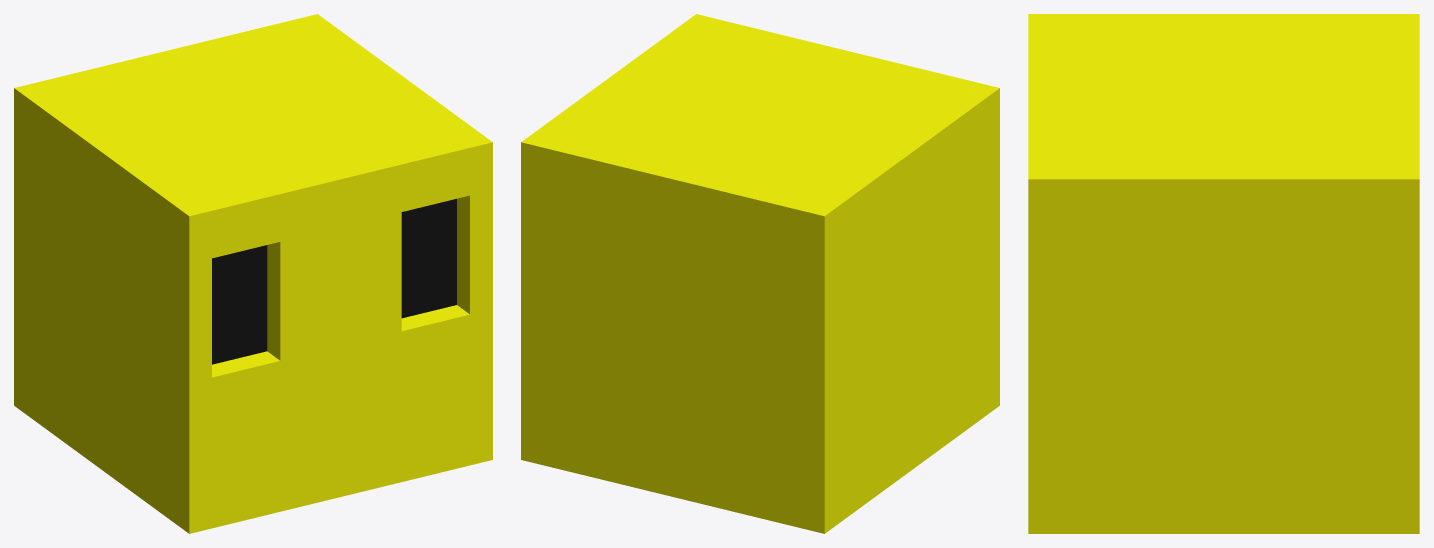
The model's file is mark-3.obj.
3 views of the same model, side by side, from view 1: azimuth 30°, elevation 25°; view 2: azimuth 150°, elevation 25°; view 3: azimuth 270°, elevation 25° (orthographic). The views are drawn at different scales.
Bounding box in the file's own units: 4 × 4 × 4.
1 material, 1 textured.
